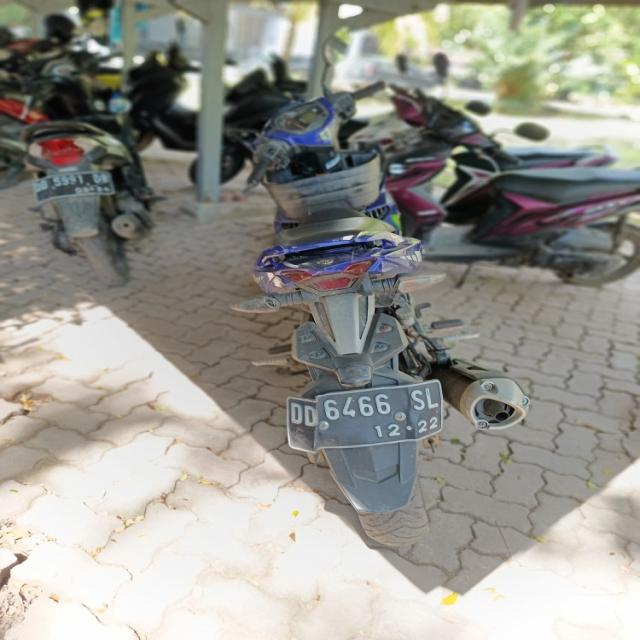plates: (288, 379, 446, 453)
